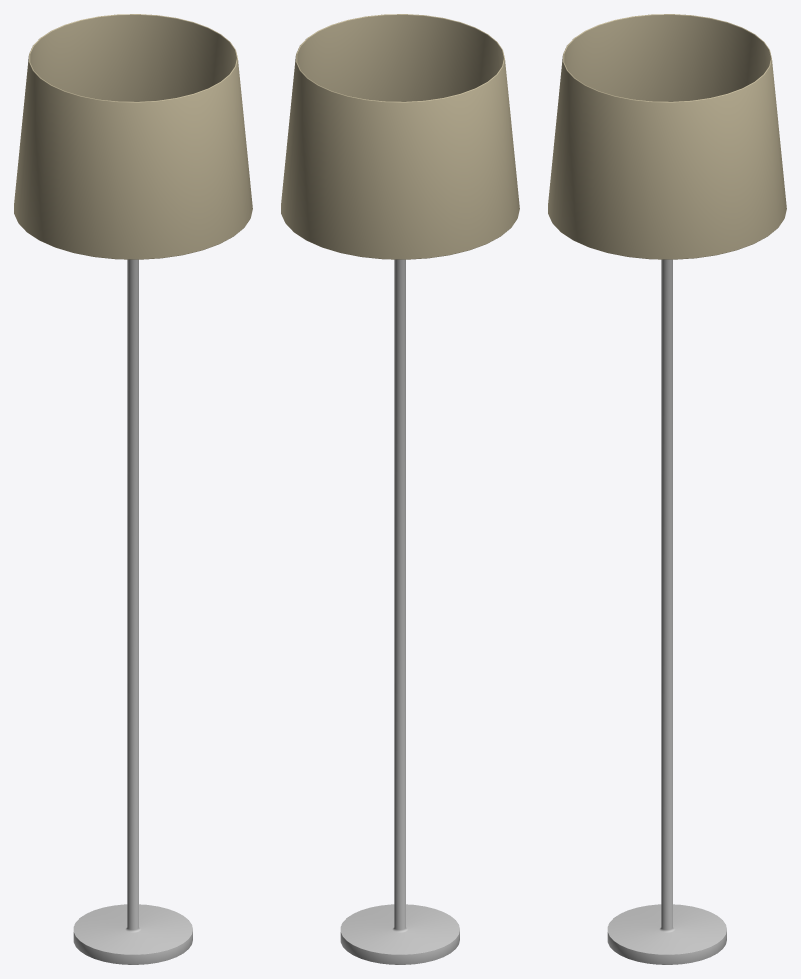
The model's file is Lamp.obj.
3 renders of one model, left to right at view 1: azimuth 30°, elevation 25°; view 2: azimuth 150°, elevation 25°; view 3: azimuth 270°, elevation 25°, orthographic.
Parts seen in each view (by area): view 1: Lamphead_Circle.007, Lamp_stand_Circle.006; view 2: Lamphead_Circle.007, Lamp_stand_Circle.006; view 3: Lamphead_Circle.007, Lamp_stand_Circle.006.
Boxes of the visible parts, x1=… form: Lamphead_Circle.007: x1=14, y1=14, x2=252, y2=259; Lamp_stand_Circle.006: x1=73, y1=259, x2=192, y2=964; Lamphead_Circle.007: x1=281, y1=14, x2=519, y2=259; Lamp_stand_Circle.006: x1=340, y1=259, x2=459, y2=964; Lamphead_Circle.007: x1=548, y1=14, x2=786, y2=259; Lamp_stand_Circle.006: x1=607, y1=259, x2=726, y2=964.
Bounding box in the file's own units: 0.3851 × 1.57 × 0.3847.
